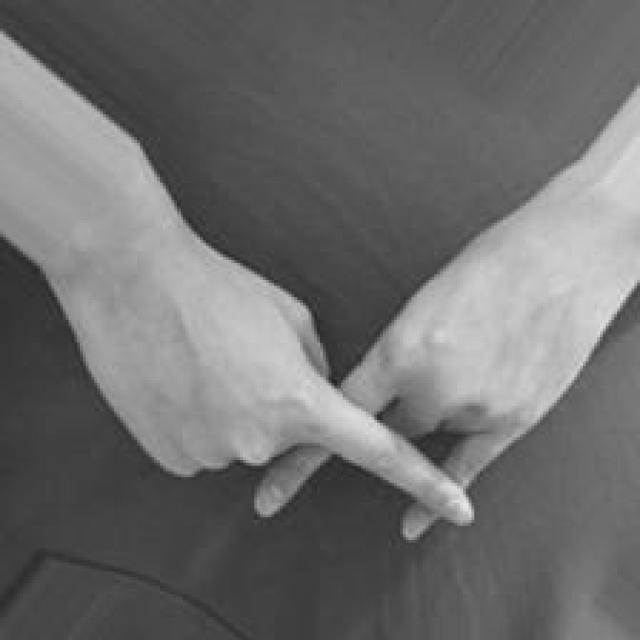H: (52, 197, 591, 548)
